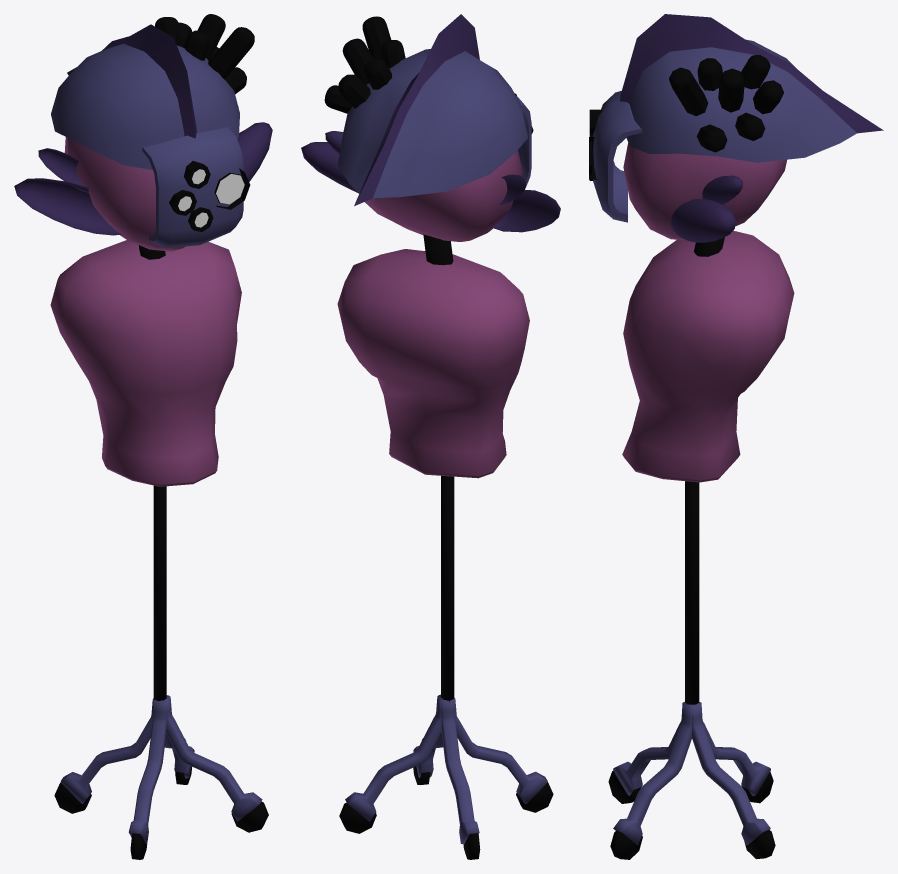
Rendered from mannequin.fbx.
3 views of the same model, side by side, from view 1: azimuth 30°, elevation 25°; view 2: azimuth 150°, elevation 25°; view 3: azimuth 270°, elevation 25° (orthographic). The views are drawn at different scales.
Parts seen in each view (by area): view 1: Cube.003, Cube, Cube.002, Cube.005, Cube.008, Cube.007, Cube.006; view 2: Cube.003, Cube, Cube.002, Cube.006, Cube.007, Cube.008, Cube.005; view 3: Cube.003, Cube, Cube.002, Cube.005, Cube.006, Cube.008, Cube.007.
Part boxes in pixels (left/top/right/bottom): Cube.003: left=50, top=240, right=241, bottom=701; Cube: left=51, top=14, right=254, bottom=247; Cube.002: left=14, top=122, right=272, bottom=259; Cube.005: left=161, top=695, right=268, bottom=832; Cube.008: left=128, top=696, right=168, bottom=859; Cube.007: left=54, top=698, right=161, bottom=813; Cube.006: left=164, top=695, right=194, bottom=784; Cube.003: left=337, top=249, right=529, bottom=702; Cube: left=324, top=14, right=533, bottom=206; Cube.002: left=301, top=131, right=560, bottom=265; Cube.006: left=339, top=695, right=446, bottom=833; Cube.007: left=439, top=695, right=480, bottom=859; Cube.008: left=452, top=697, right=553, bottom=812; Cube.005: left=413, top=694, right=443, bottom=784; Cube.003: left=622, top=230, right=794, bottom=704; Cube: left=589, top=14, right=883, bottom=222; Cube.002: left=623, top=143, right=786, bottom=256; Cube.005: left=610, top=702, right=698, bottom=859; Cube.006: left=685, top=702, right=775, bottom=859; Cube.008: left=608, top=702, right=691, bottom=803; Cube.007: left=692, top=702, right=773, bottom=803.
Bounding box in the file's own units: 268 × 799 × 262.
